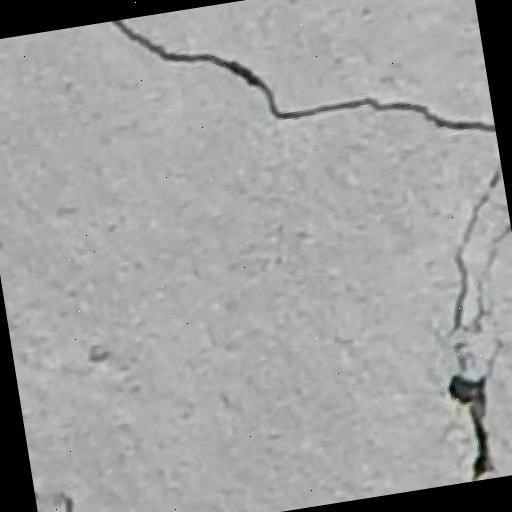spalling: (86, 17, 494, 137), (430, 155, 510, 469)
